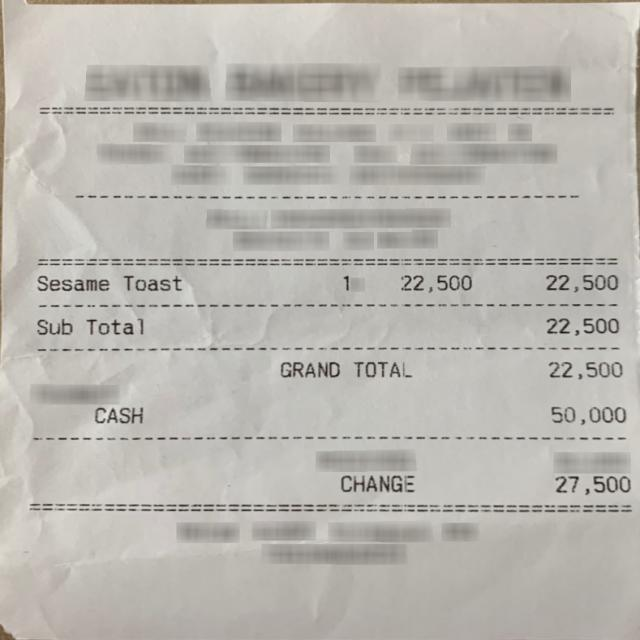text: (554, 475, 629, 494), (548, 360, 620, 378), (551, 406, 624, 423), (36, 275, 108, 292), (545, 317, 617, 334), (400, 275, 470, 292), (546, 274, 616, 291), (340, 474, 413, 490), (86, 316, 144, 335), (122, 275, 180, 292), (279, 360, 337, 377), (352, 361, 411, 377), (93, 407, 141, 422), (36, 318, 70, 333), (342, 275, 350, 290)
